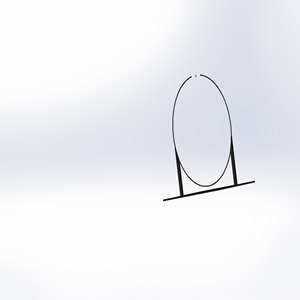circle: (161, 74, 258, 201)
